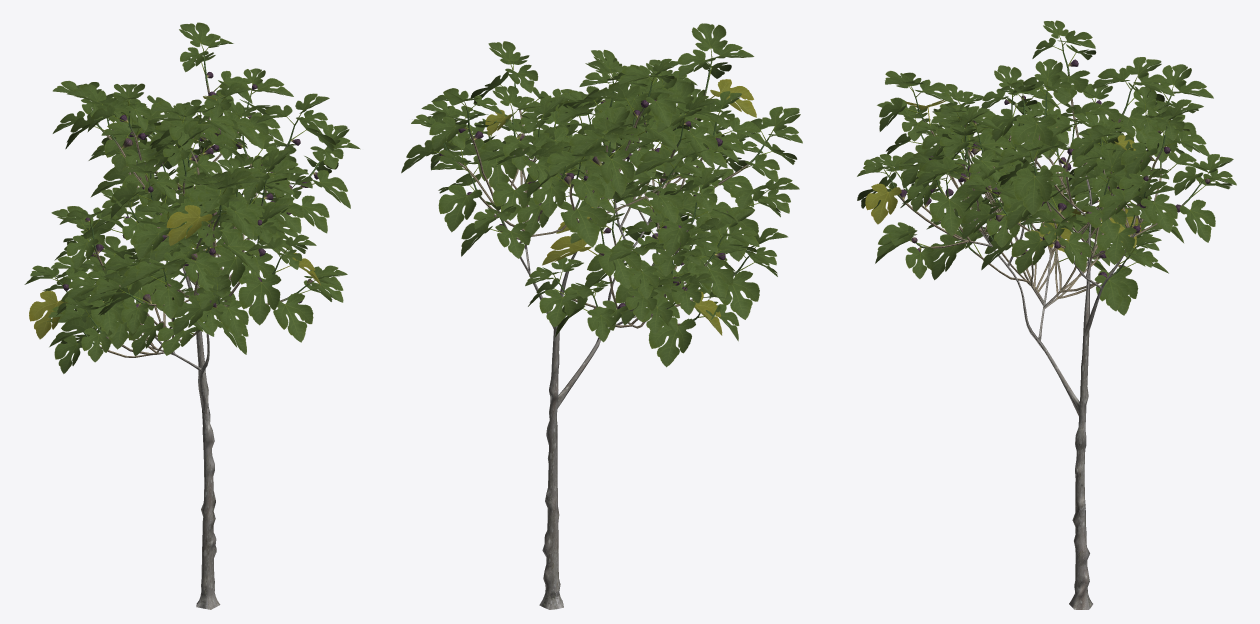
File: fig_tree.glb
3 renders of one model, left to right at view 1: azimuth 30°, elevation 25°; view 2: azimuth 150°, elevation 25°; view 3: azimuth 270°, elevation 25°, orthographic. The views are drawn at different scales.
Visible parts, largest first — view 1: Ficus_carica_HD; view 2: Ficus_carica_HD; view 3: Ficus_carica_HD.
Boxes of the visible parts, x1,y1,x2,y2 form: Ficus_carica_HD: [24, 22, 360, 609]; Ficus_carica_HD: [401, 23, 802, 609]; Ficus_carica_HD: [857, 20, 1236, 609].
Size of the model in its own units: 1.49 by 2.34 by 1.59.
11 materials, 11 textured.
